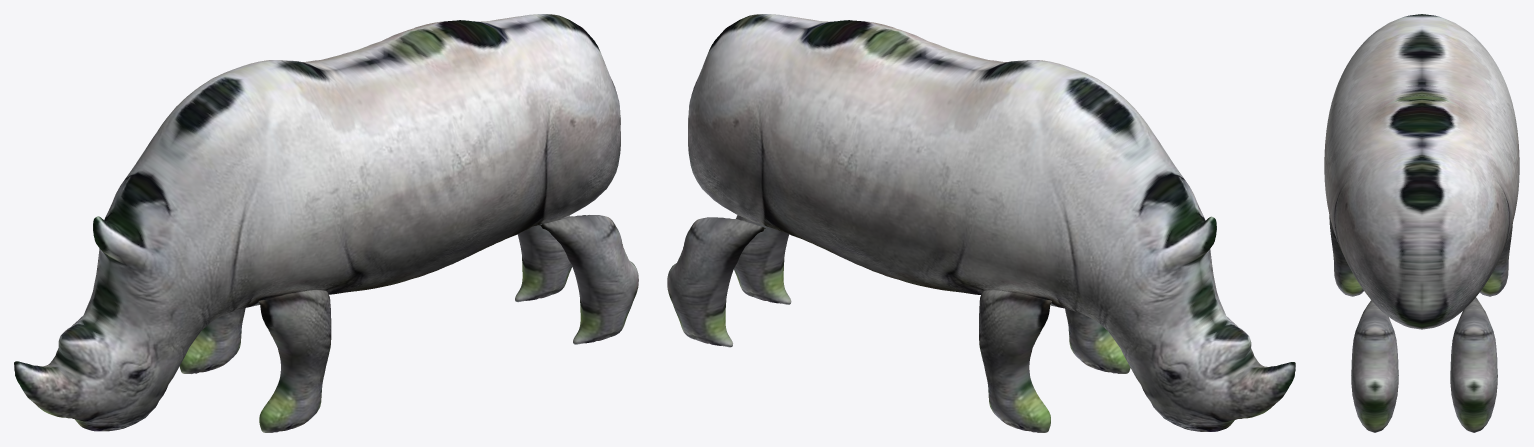
Rendered from mm_project.glb.
3 renders of one model, left to right at view 1: azimuth 30°, elevation 25°; view 2: azimuth 150°, elevation 25°; view 3: azimuth 270°, elevation 25°, orthographic. The views are drawn at different scales.
Bounding box in the file's own units: 7.96 × 4.12 × 2.64.
1 material, 1 textured.
